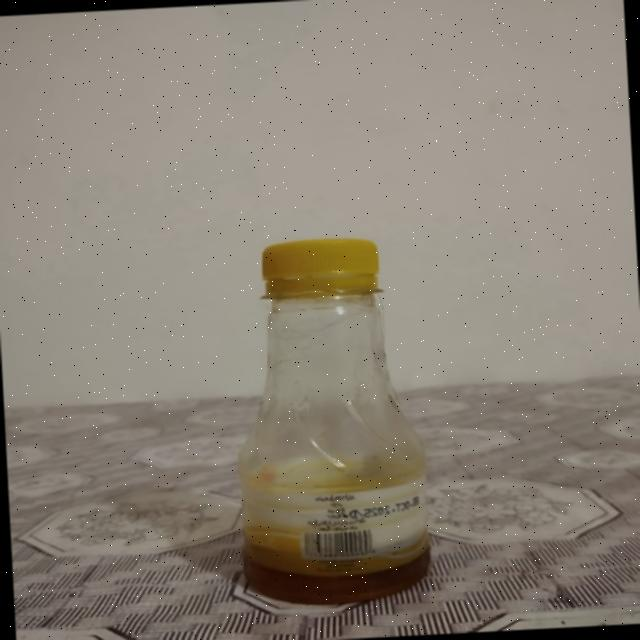bottle: (221, 220, 448, 620)
cap: (248, 227, 392, 312)
label: (224, 462, 453, 573)
